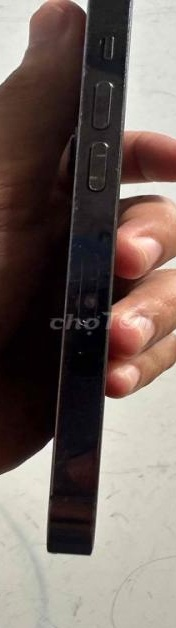scratch: (71, 31, 111, 199), (68, 306, 97, 355)
